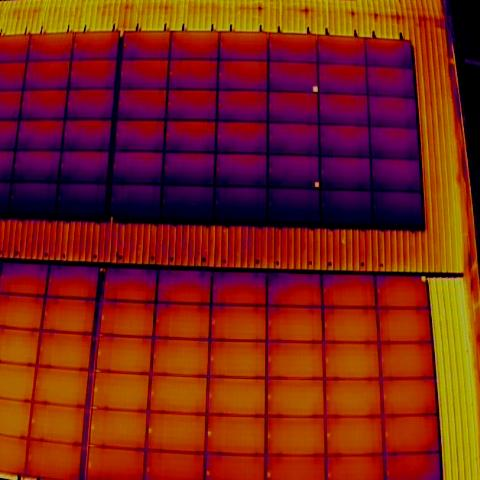fault: (312, 179, 321, 190), (311, 85, 320, 94)
